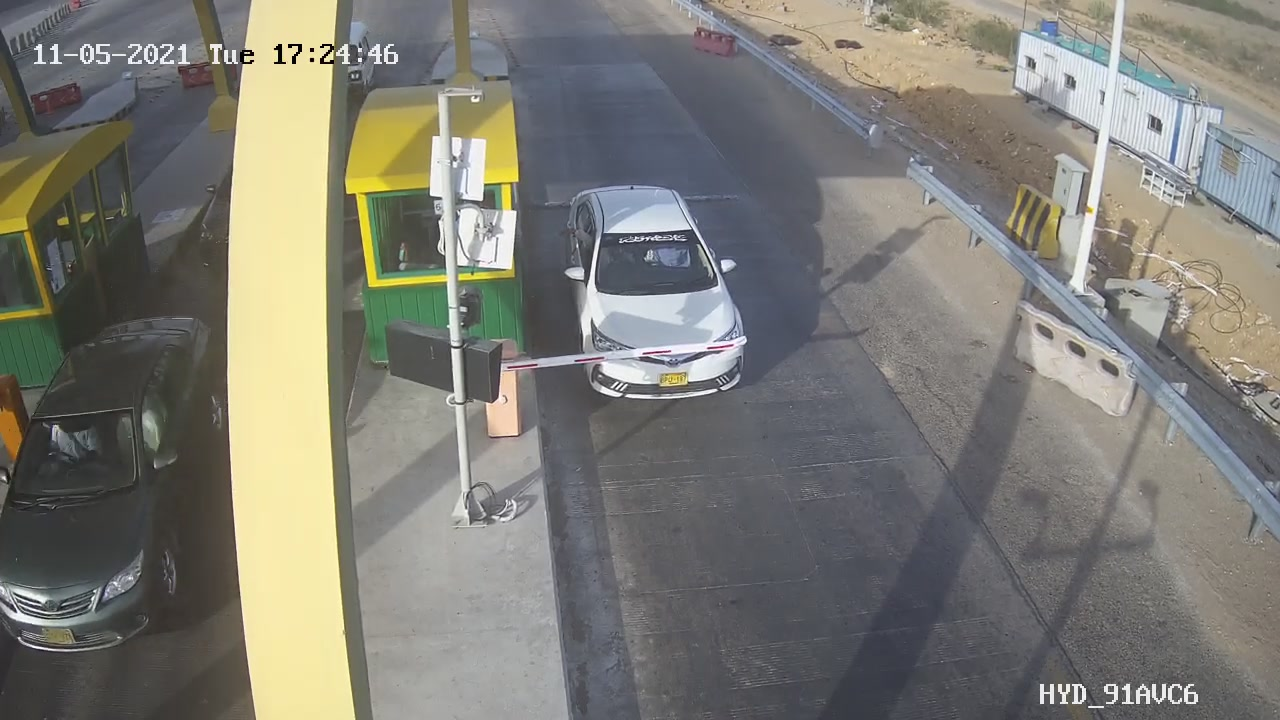F1: (540, 165, 774, 431)
